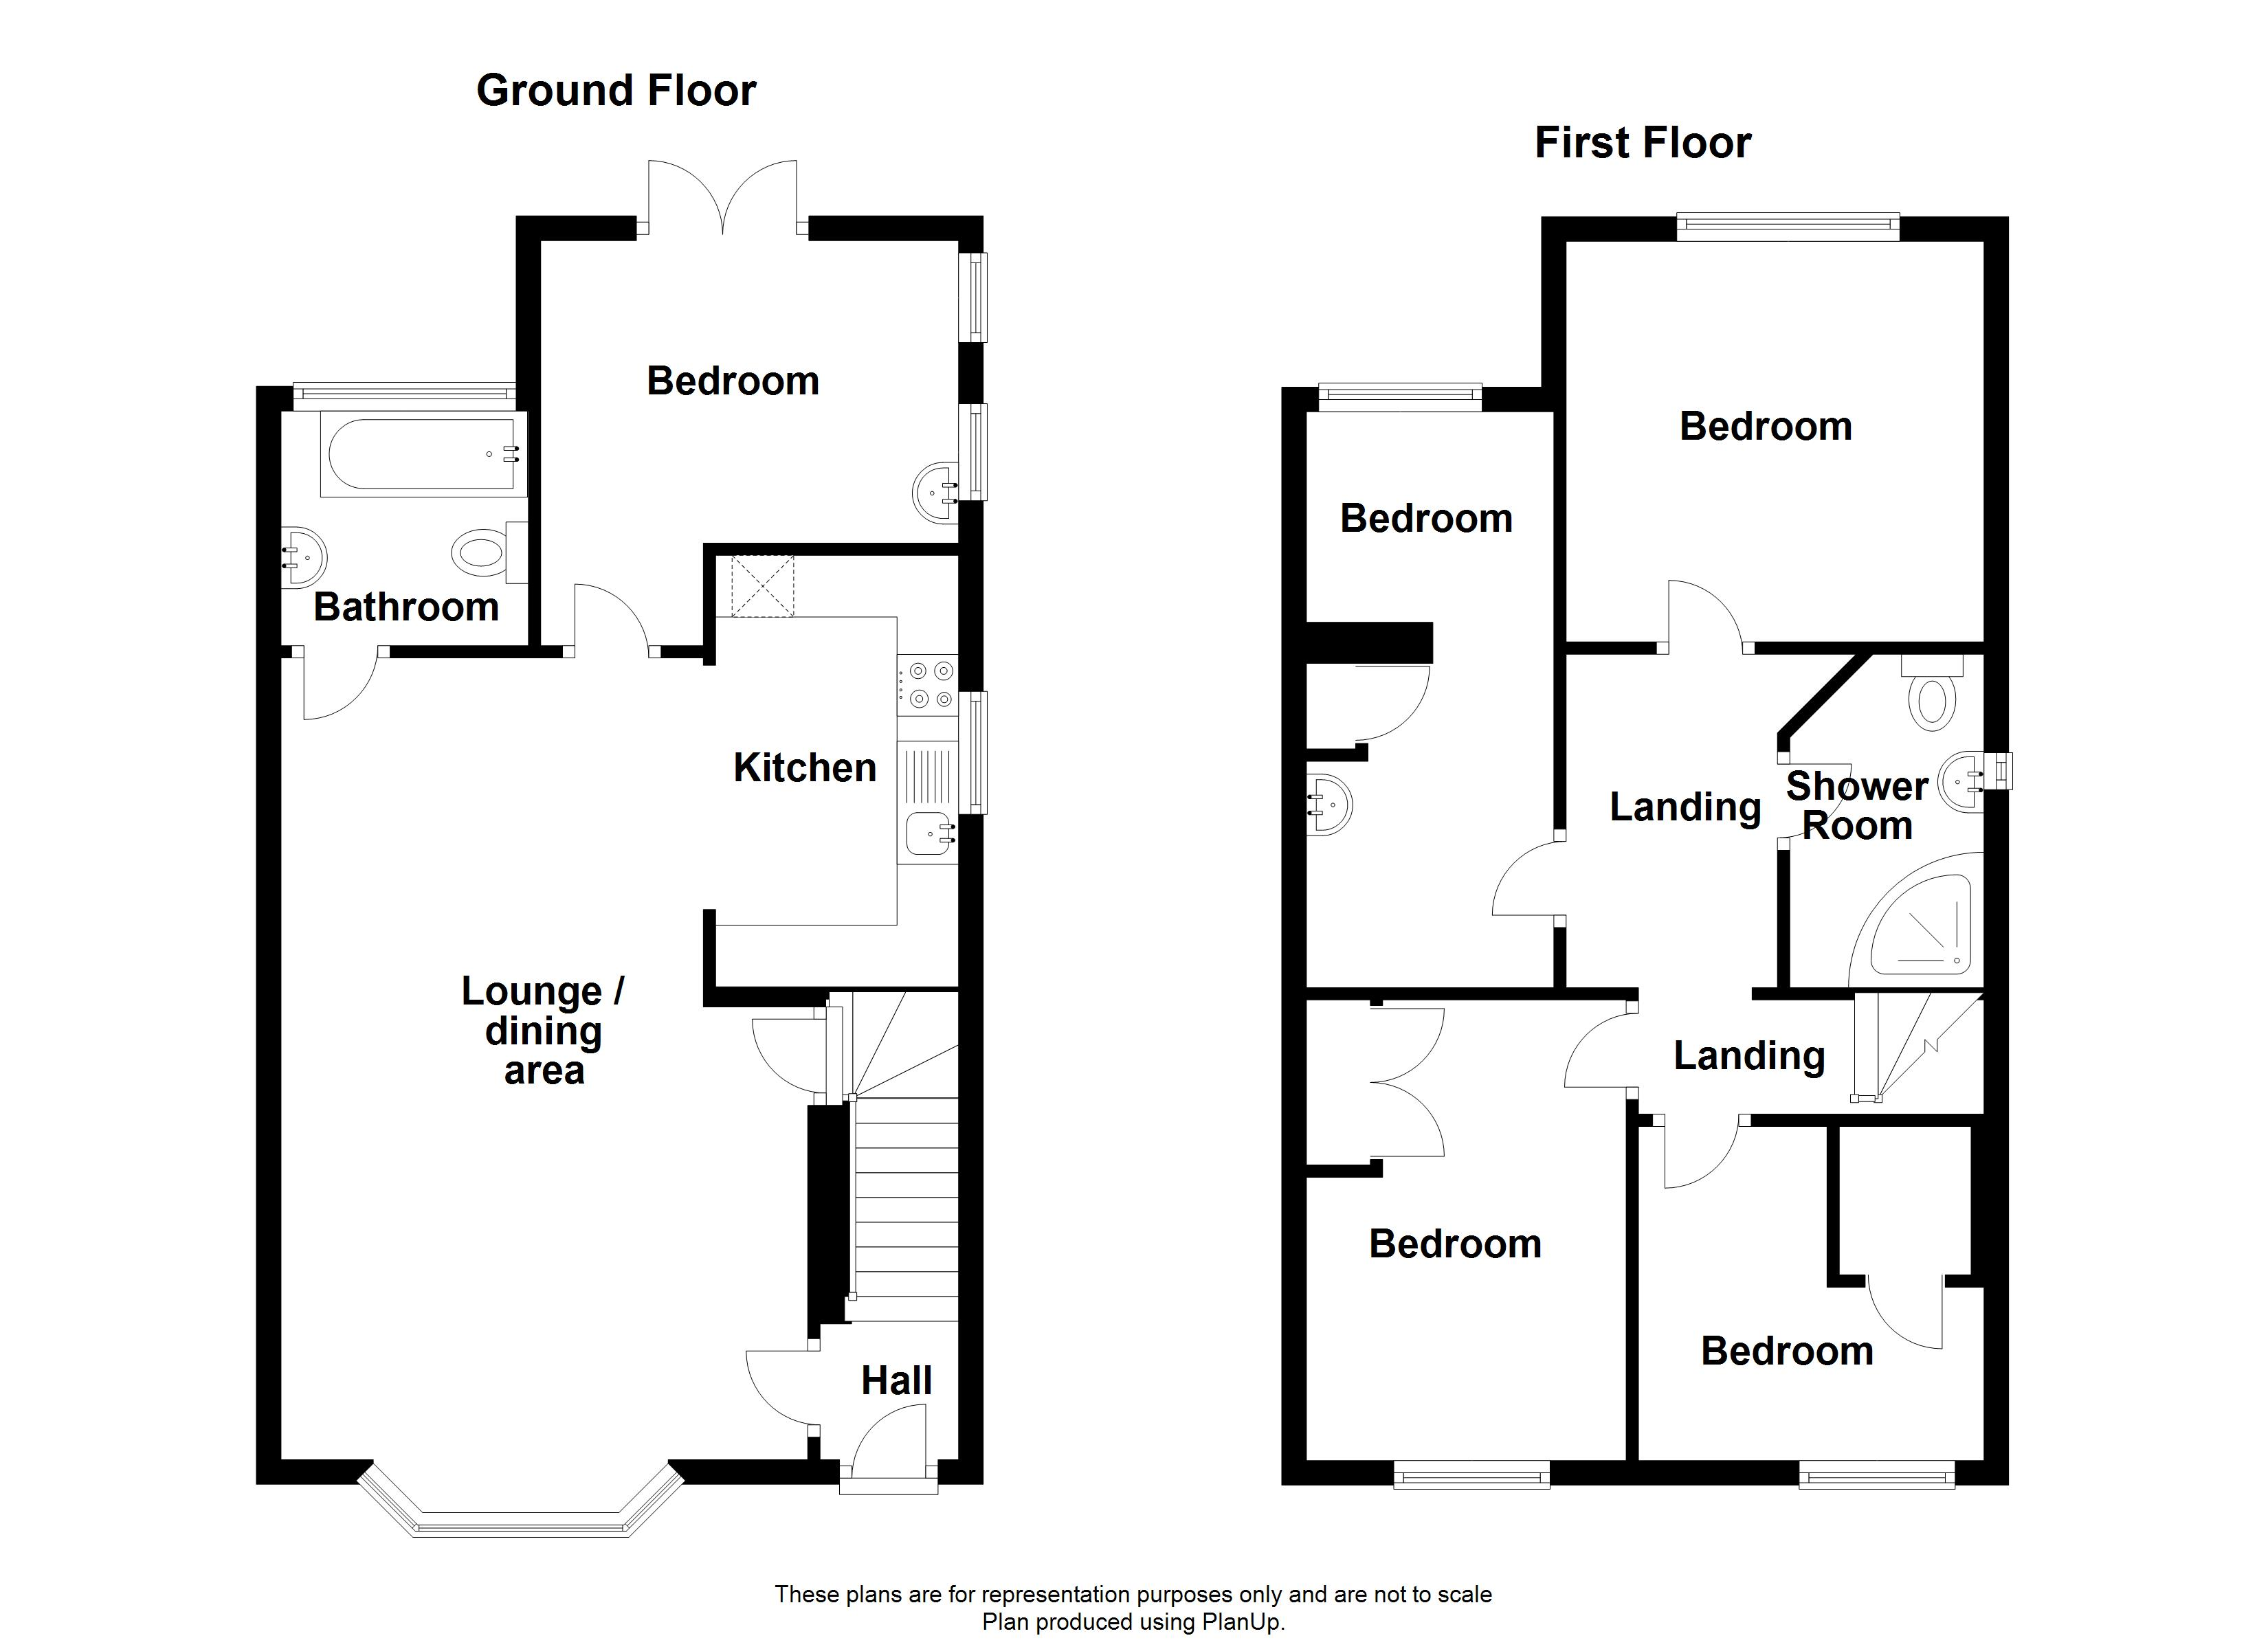wall: (269, 408, 285, 1478), (1291, 405, 1307, 1466), (810, 1107, 847, 1318), (535, 232, 548, 649), (967, 817, 974, 1466), (1557, 1461, 1793, 1478), (1629, 1095, 1639, 1461), (715, 991, 972, 1003), (1300, 634, 1430, 655), (1830, 1125, 1845, 1290), (815, 218, 977, 232), (1560, 224, 1564, 838), (1481, 387, 1557, 410), (965, 519, 974, 683), (1754, 1119, 2004, 1125), (1759, 644, 2006, 649), (704, 922, 717, 1010), (1298, 998, 1636, 1000), (1565, 224, 1678, 229), (1555, 646, 1662, 651), (391, 651, 544, 655), (713, 546, 981, 547), (713, 547, 717, 658), (1896, 229, 2004, 232), (1764, 993, 1845, 994), (1314, 1169, 1384, 1170)
